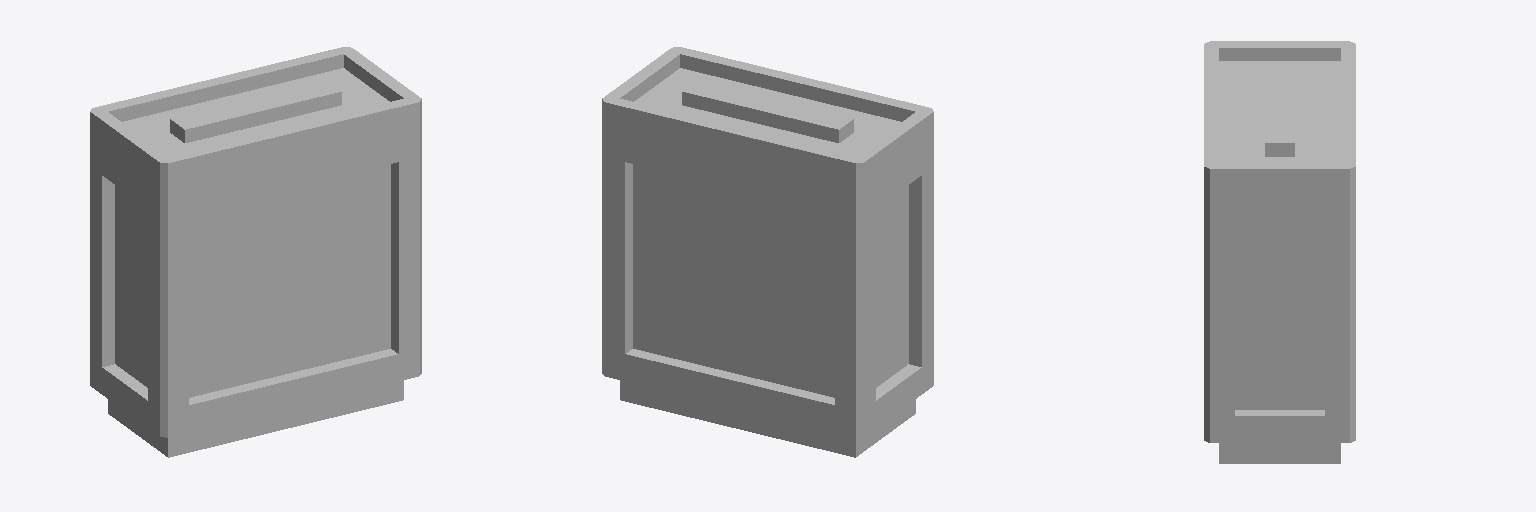
The model's file is low-detail-building-wide-a.obj.
3 renders of one model, left to right at view 1: azimuth 30°, elevation 25°; view 2: azimuth 150°, elevation 25°; view 3: azimuth 270°, elevation 25°, orthographic.
Parts seen in each view (by area): view 1: low-detail-building-wide-a; view 2: low-detail-building-wide-a; view 3: low-detail-building-wide-a.
Boxes of the visible parts, <box> form: low-detail-building-wide-a: <box>90,47,421,457</box>; low-detail-building-wide-a: <box>602,47,933,457</box>; low-detail-building-wide-a: <box>1204,41,1355,463</box>.
Size of the model in its own units: 1 by 1.1 by 0.5.